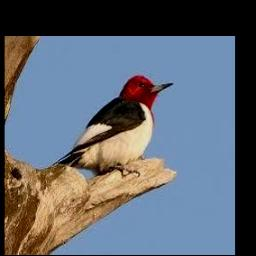Woodpecker: (58, 75, 173, 171)
